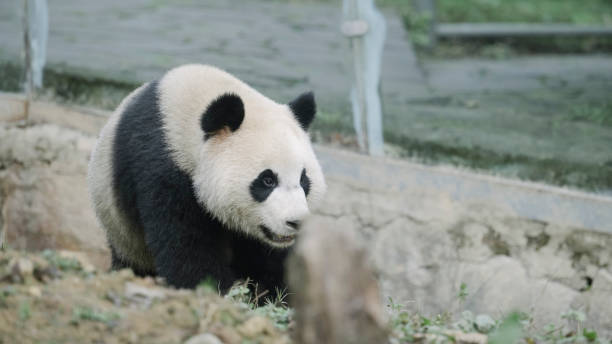panda: (190, 75, 349, 267)
